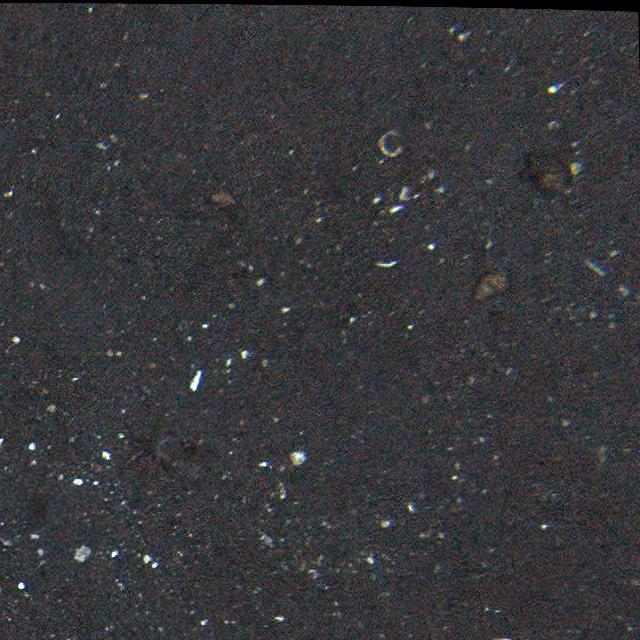whelk: (468, 265, 510, 303)
